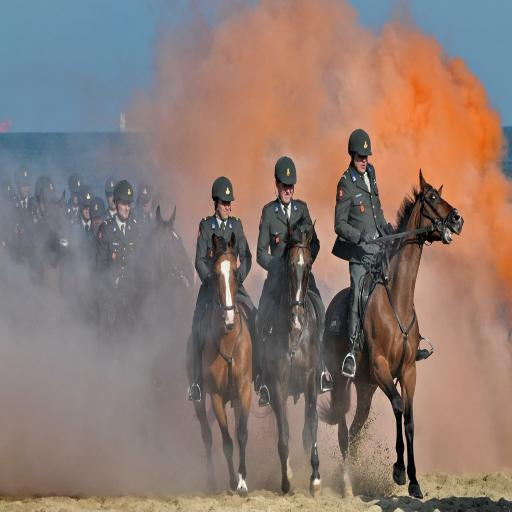horse: (320, 164, 466, 498), (252, 217, 320, 494), (184, 232, 254, 496), (114, 203, 196, 339), (31, 188, 71, 294)
